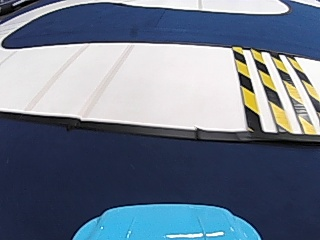bump: (212, 46, 311, 123)
